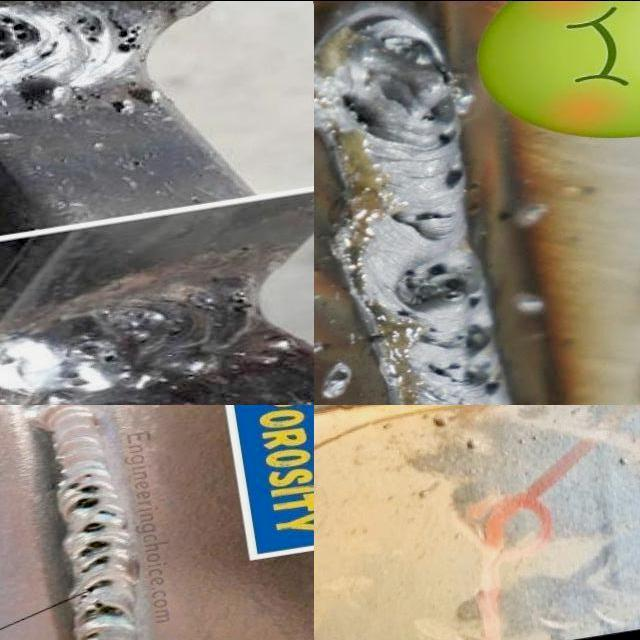defect: (392, 257, 484, 324), (425, 318, 503, 396), (378, 32, 455, 90), (70, 12, 146, 56), (0, 7, 49, 61), (65, 479, 118, 519), (388, 198, 455, 225), (340, 90, 381, 131), (65, 337, 124, 363), (80, 599, 128, 621), (78, 576, 118, 602), (438, 164, 472, 191), (54, 367, 96, 388), (430, 128, 457, 150), (78, 540, 111, 557), (80, 555, 111, 573), (418, 103, 442, 125), (79, 520, 108, 533), (82, 629, 102, 640), (83, 473, 93, 478)
